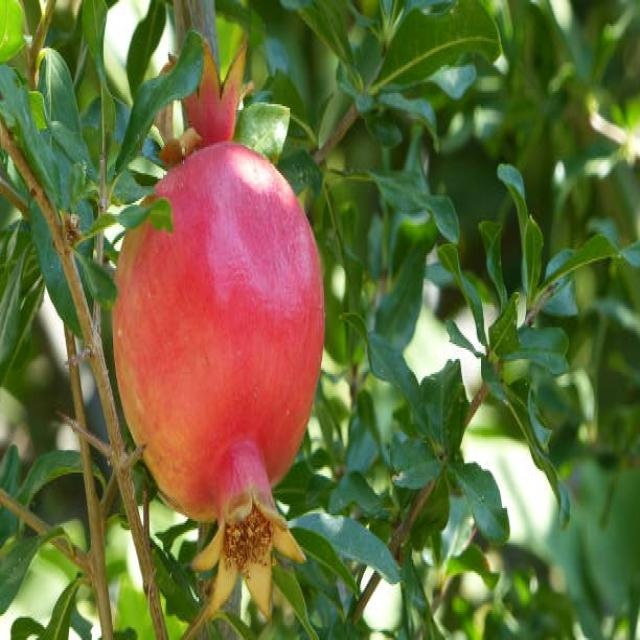Ripe: (110, 128, 328, 622)
